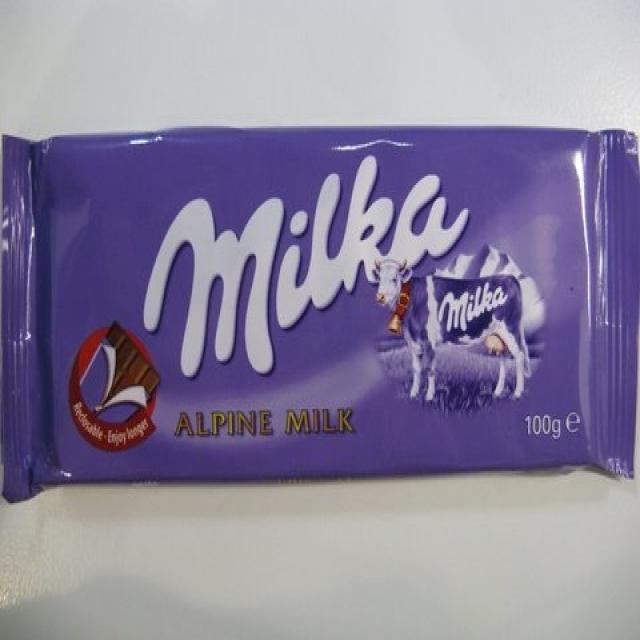milka: (137, 152, 548, 412)
